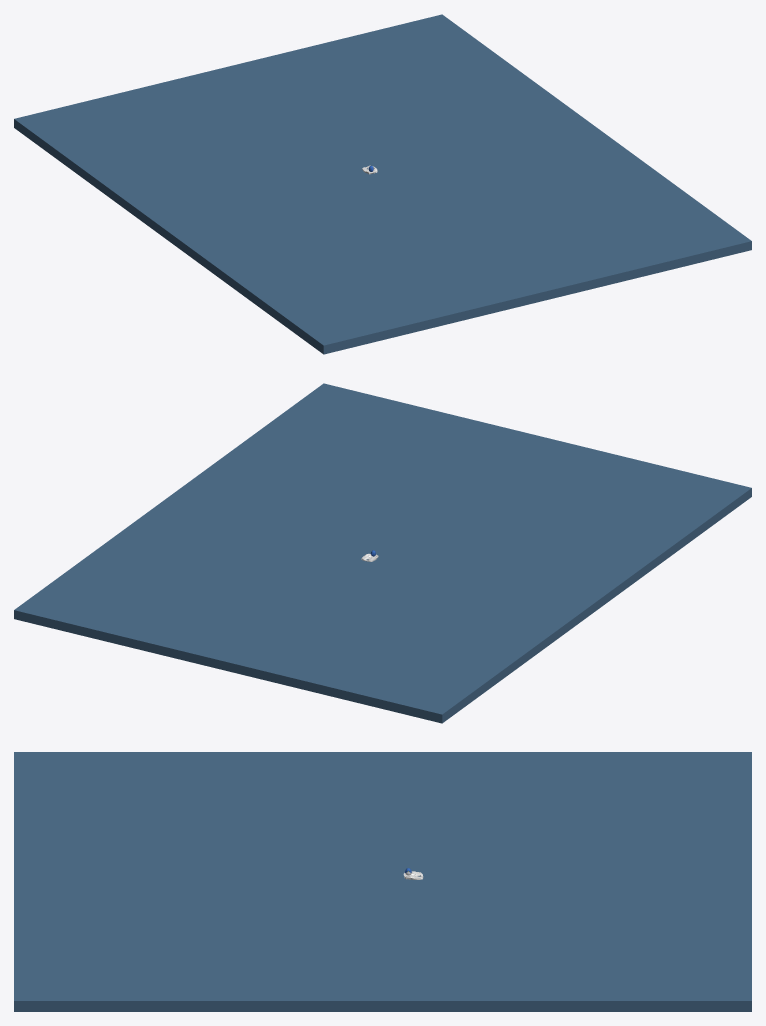
The model's file is FishingSceneIntro.gltf.
The picture shows the model from 3 angles, top to bottom: view 1: azimuth 30°, elevation 25°; view 2: azimuth 150°, elevation 25°; view 3: azimuth 270°, elevation 25°; orthographic projection. The views are drawn at different scales.
Parts seen in each view (by area): view 1: Water; view 2: Water; view 3: Water.
Boxes of the visible parts, left/top/right/bottom form: Water: left=14, top=14, right=751, bottom=354; Water: left=14, top=383, right=751, bottom=723; Water: left=14, top=752, right=751, bottom=1011.
Bounding box in the file's own units: 154 × 5.32 × 193.
7 materials, 1 textured.
